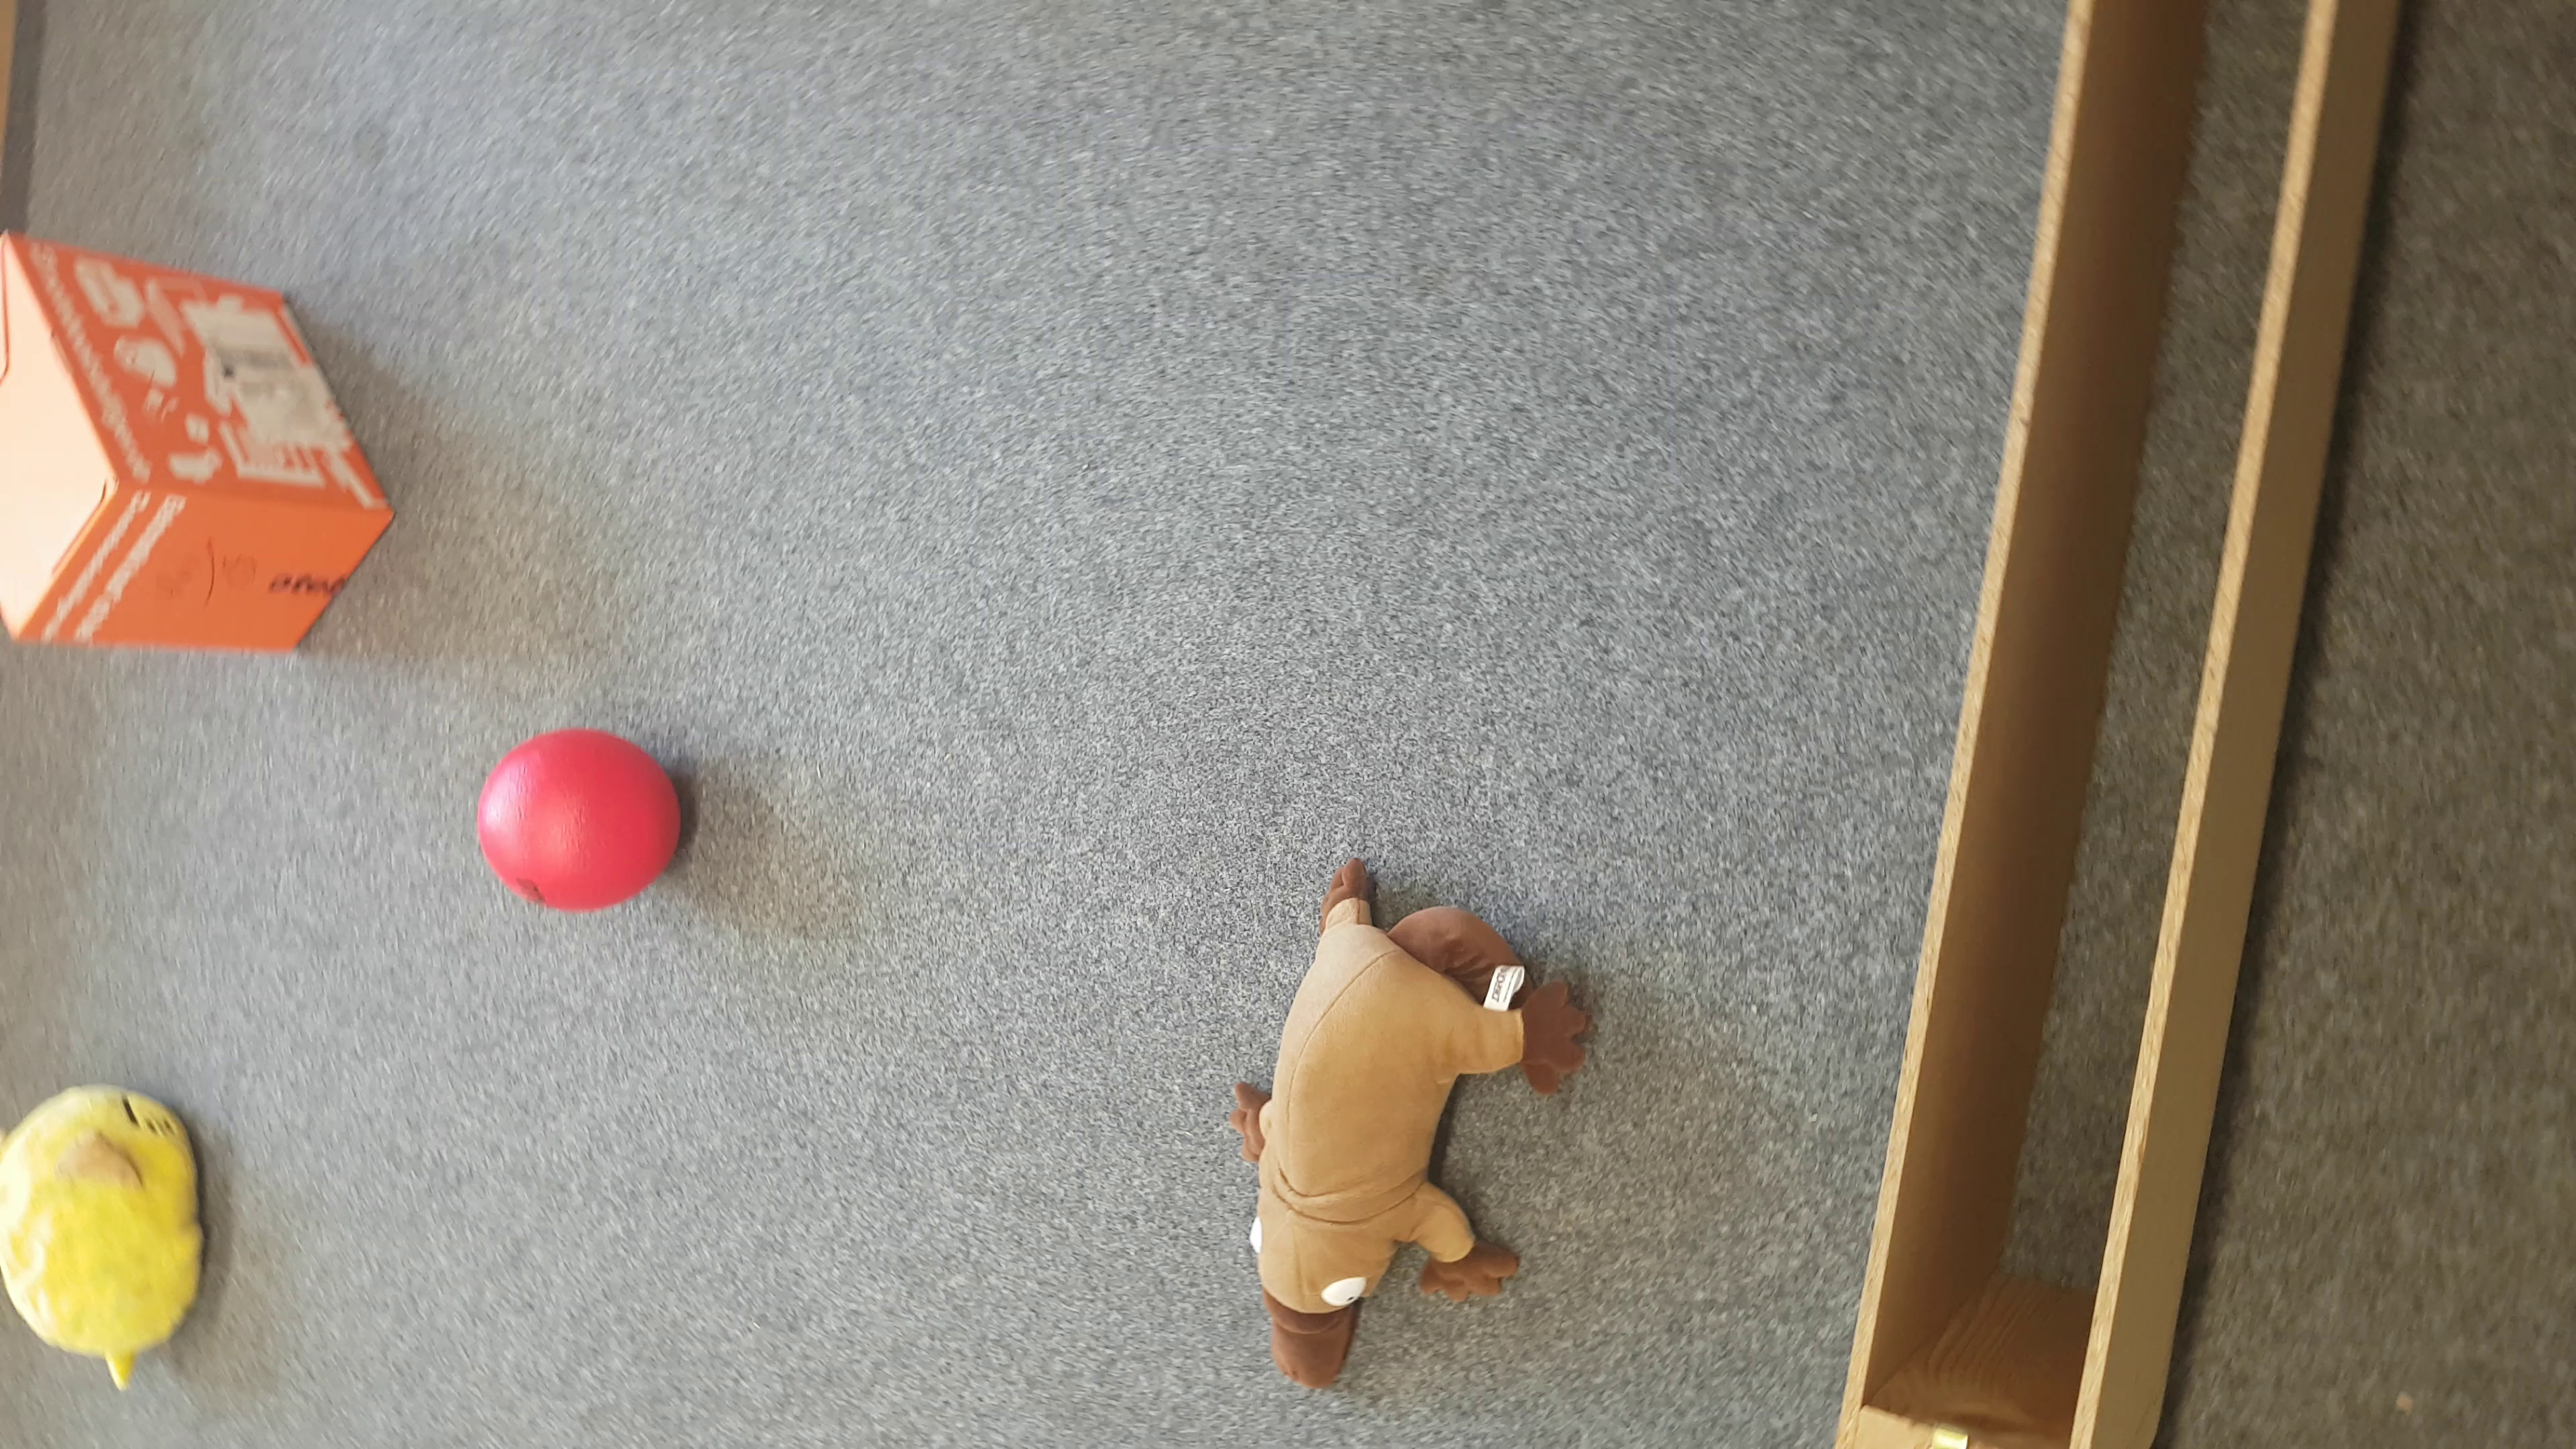grasp: (1226, 855, 1594, 1396), (2, 1085, 203, 1389)
kick: (479, 731, 683, 913)
push: (2, 234, 391, 658)
